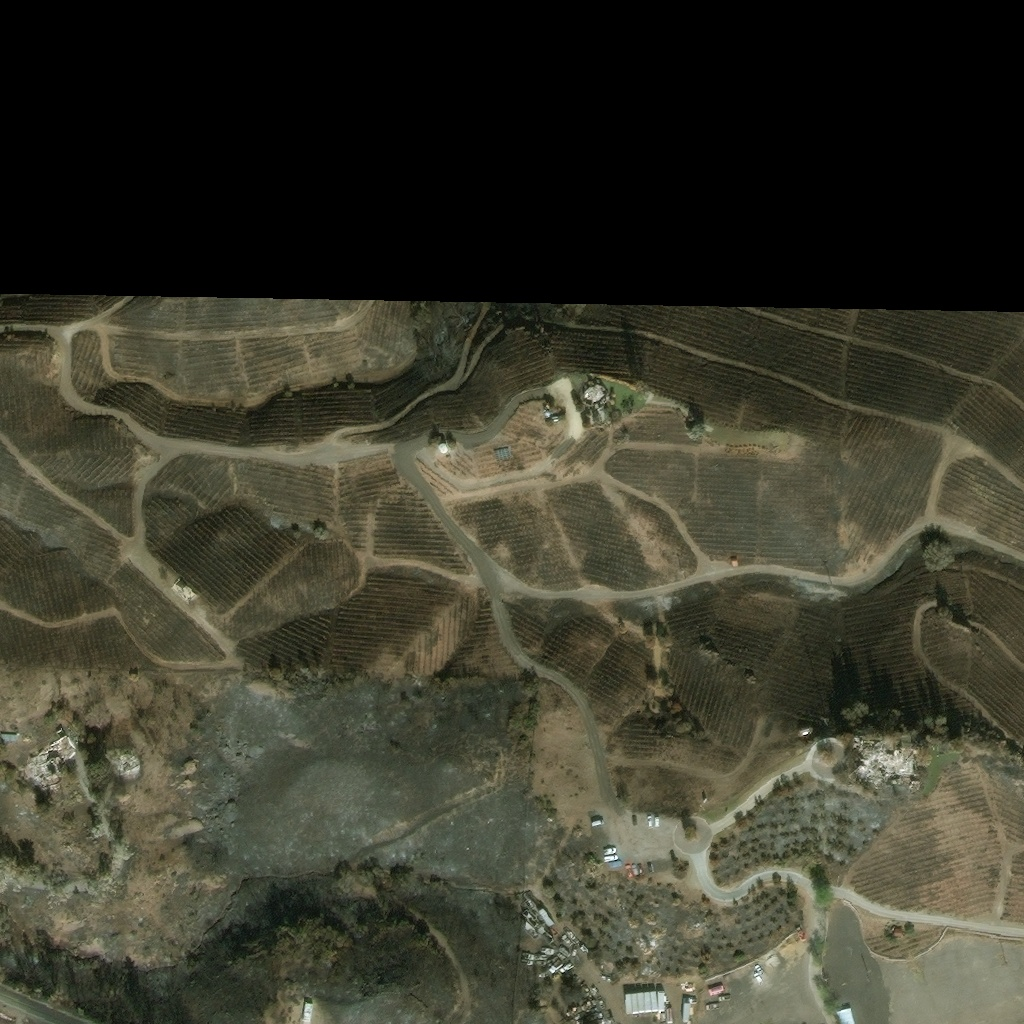0 no-damage: (581, 388, 602, 408), (833, 1007, 854, 1023), (492, 448, 509, 464), (174, 580, 190, 596), (301, 1002, 313, 1023), (0, 734, 17, 743), (681, 1004, 689, 1022), (436, 443, 446, 454)
3 destroyed: (25, 725, 75, 798), (852, 744, 914, 784), (112, 749, 141, 778)
4 un-classified: (604, 1017, 614, 1023)
